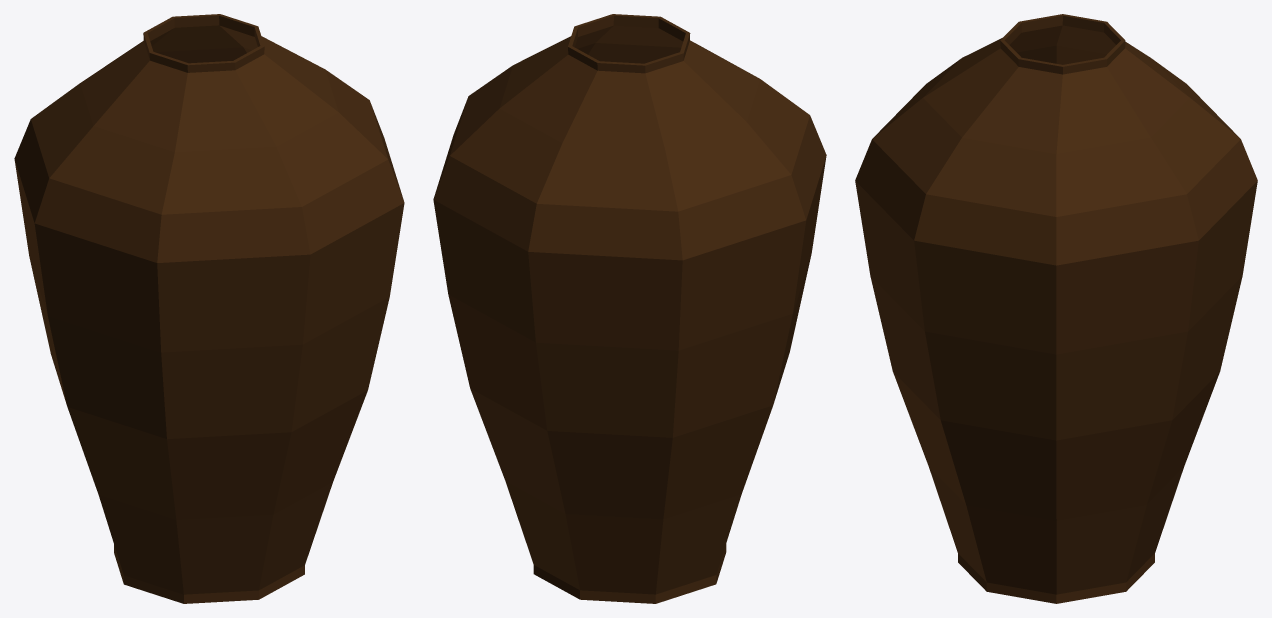
Rendered from vessel_2.fbx.
The picture shows the model from 3 angles, left to right: view 1: azimuth 30°, elevation 25°; view 2: azimuth 150°, elevation 25°; view 3: azimuth 270°, elevation 25°; orthographic projection.
Parts seen in each view (by area): view 1: vessel_2; view 2: vessel_2; view 3: vessel_2.
Part boxes in pixels (x1=…): vessel_2: x1=14, y1=14, x2=404, y2=603; vessel_2: x1=433, y1=14, x2=826, y2=603; vessel_2: x1=855, y1=14, x2=1257, y2=603.
Bounding box in the file's own units: 92.06 × 131 × 92.06.
